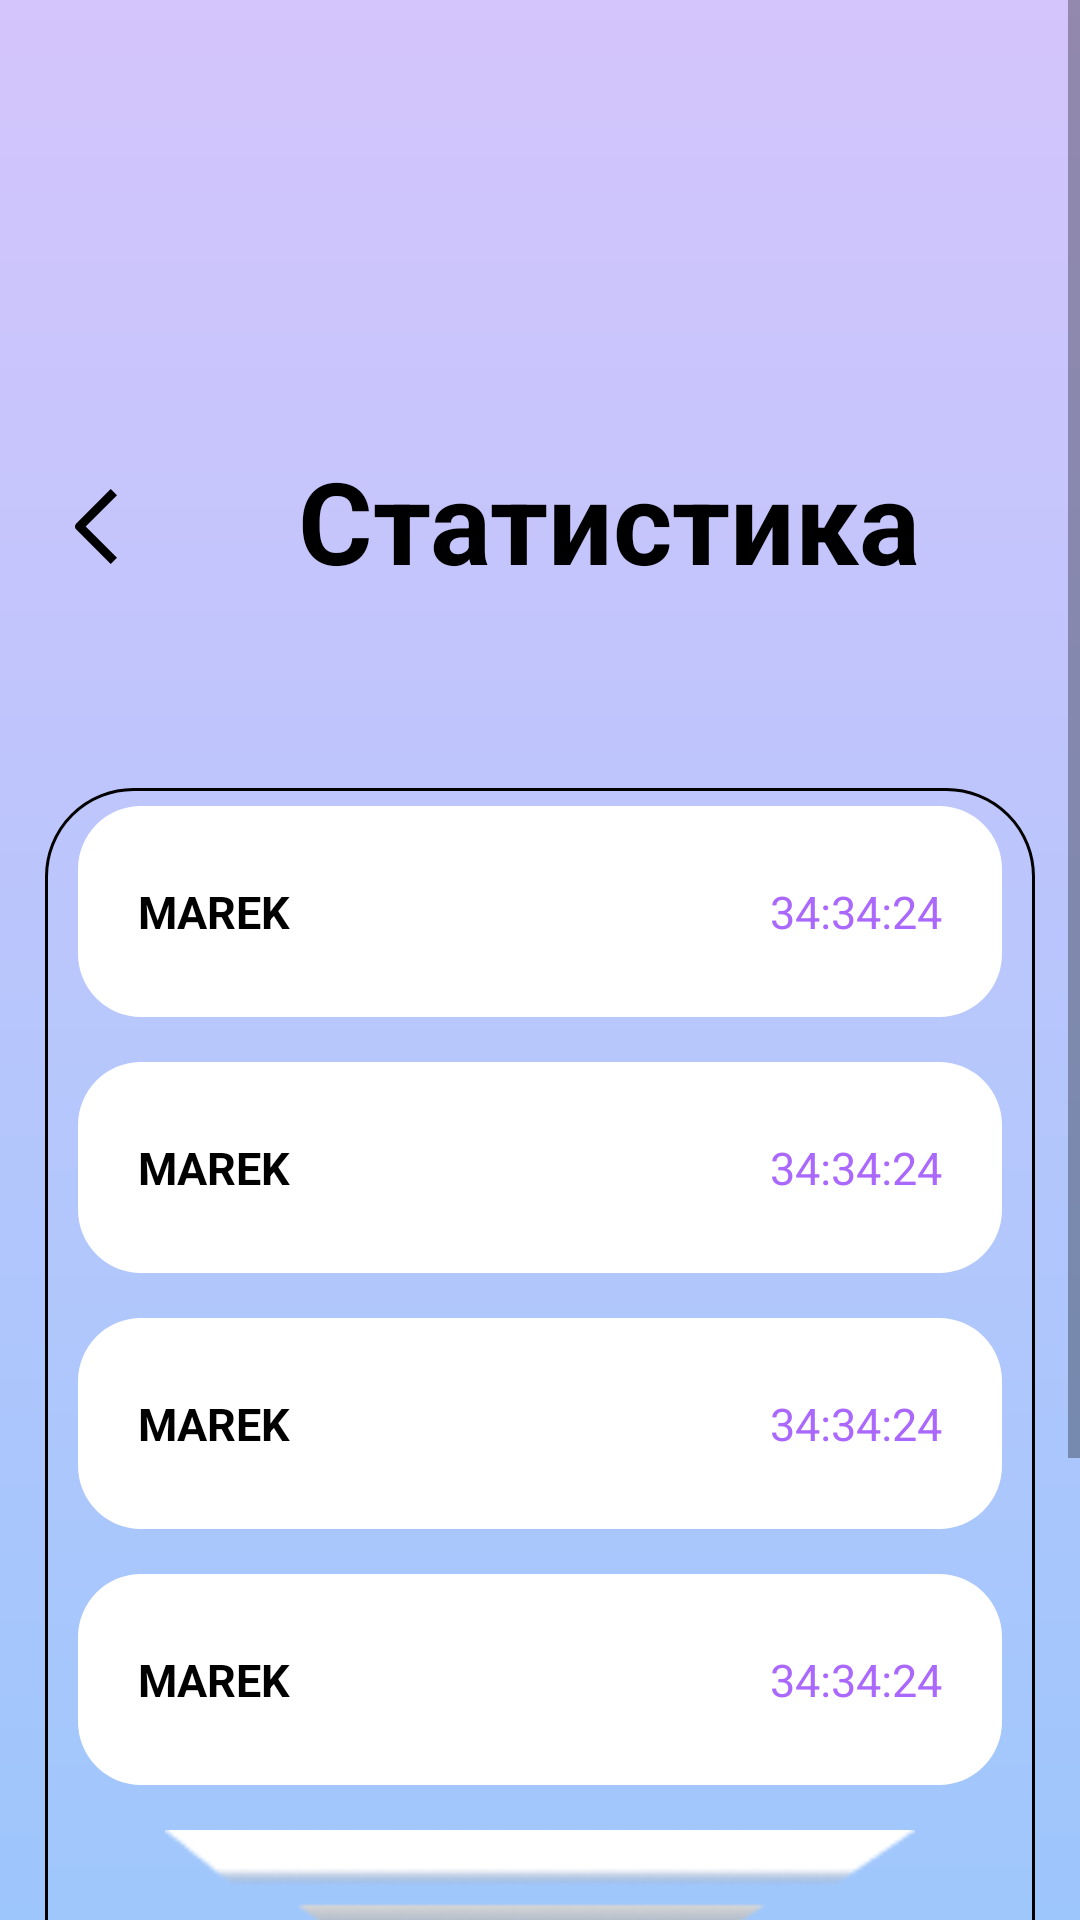

Screen size 1080px×1920px. Icon name, then its center in pixels as point (x, y):
exit left: point (96, 526)
